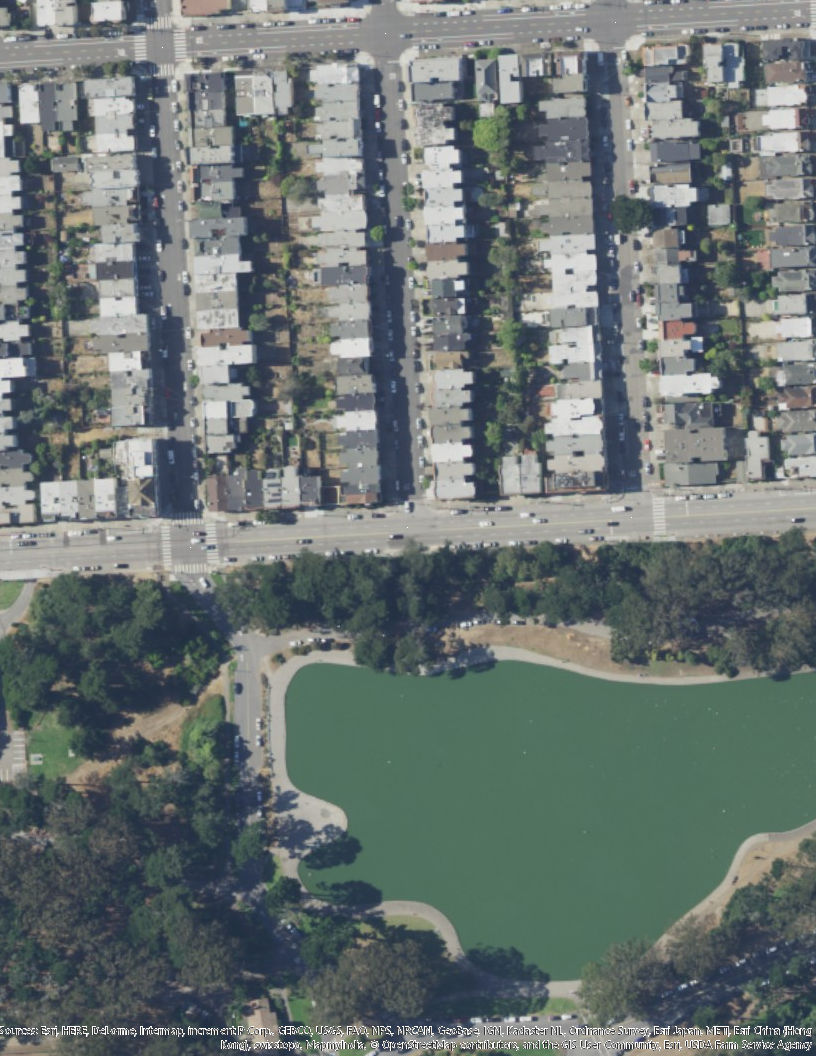zebracross: (204, 524, 221, 563), (172, 508, 204, 526), (160, 525, 173, 566), (171, 29, 188, 60), (148, 61, 175, 78), (132, 33, 146, 64), (653, 500, 666, 533), (144, 15, 171, 30), (175, 563, 211, 573)
